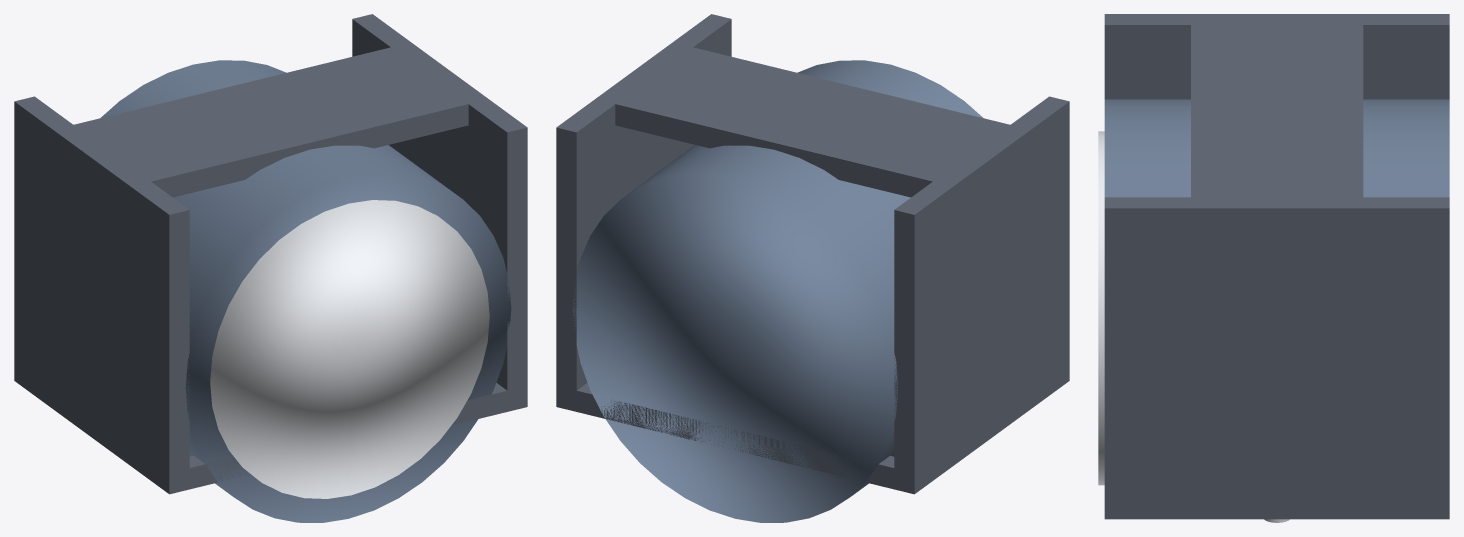
The model's file is arri_orbiter.glb.
3 renders of one model, left to right at view 1: azimuth 30°, elevation 25°; view 2: azimuth 150°, elevation 25°; view 3: azimuth 270°, elevation 25°, orthographic. The views are drawn at different scales.
Visible parts, largest first — view 1: arri_orbiter; view 2: arri_orbiter; view 3: arri_orbiter.
Boxes of the visible parts, bbox=[...] form: arri_orbiter: bbox=[14, 14, 527, 522]; arri_orbiter: bbox=[556, 14, 1069, 522]; arri_orbiter: bbox=[1098, 14, 1449, 522].
Size of the model in its own units: 0.44 by 0.428 by 0.336.
